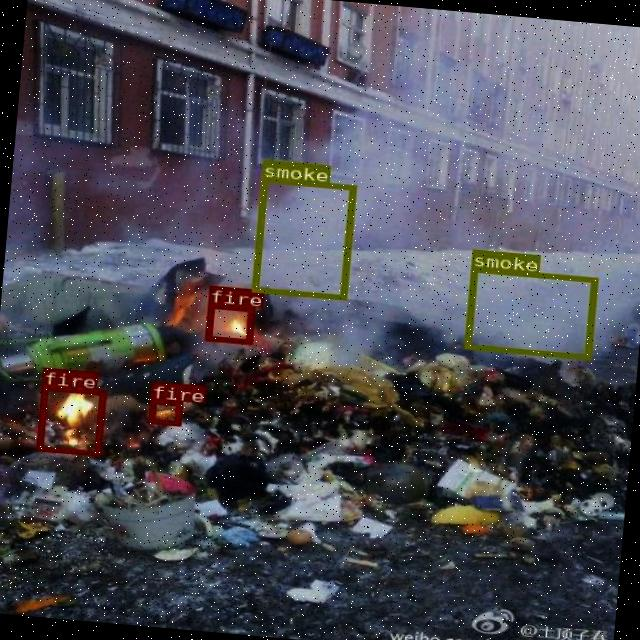fire: (34, 384, 105, 455), (204, 302, 254, 344), (148, 398, 182, 426)
smoke: (250, 175, 354, 299), (462, 266, 596, 358)
